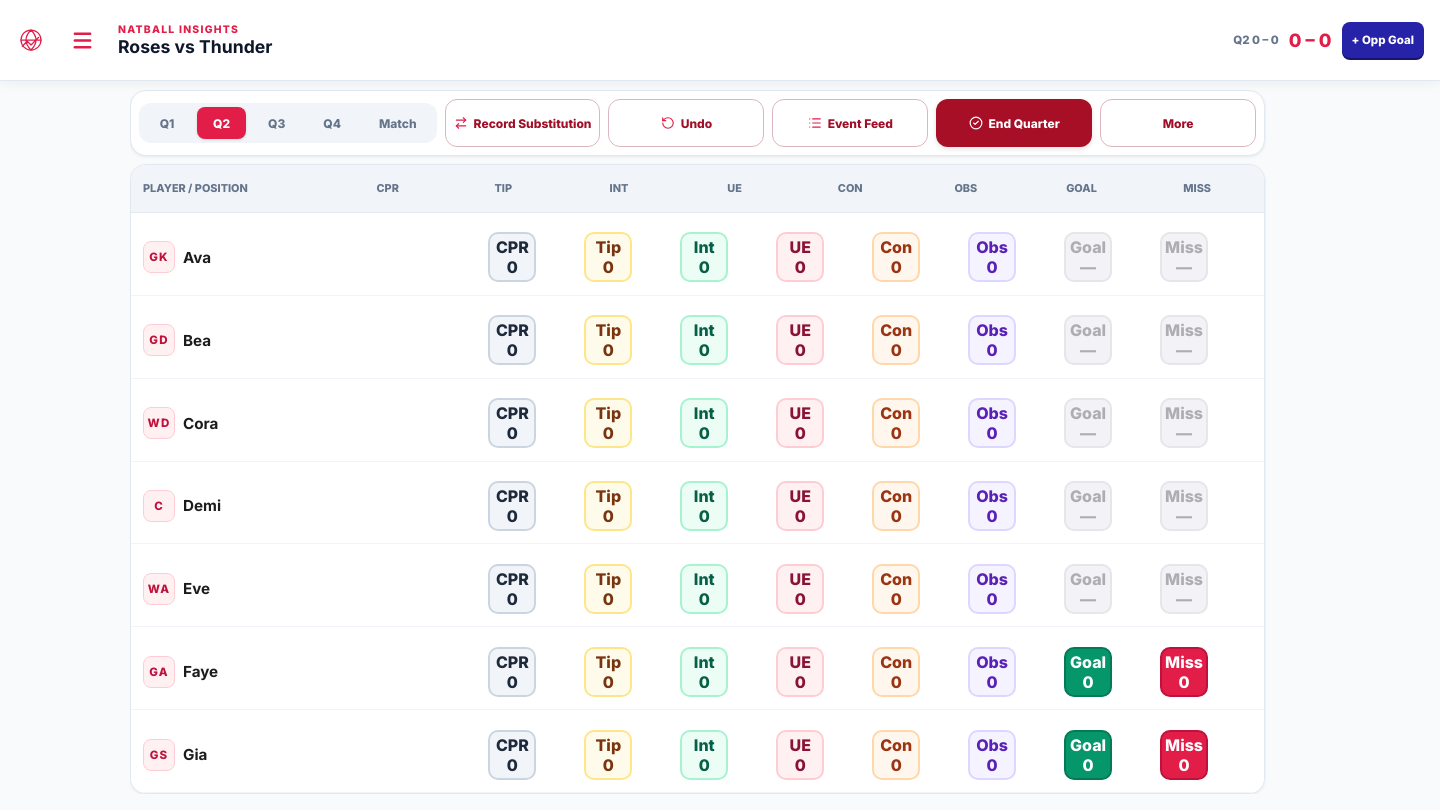
Scenario: Natball Insights setup › opens ended Quarter history away from the live Match Centre
Click the button named "Open coach navigation" at (82, 40), box [58, 16, 106, 64]
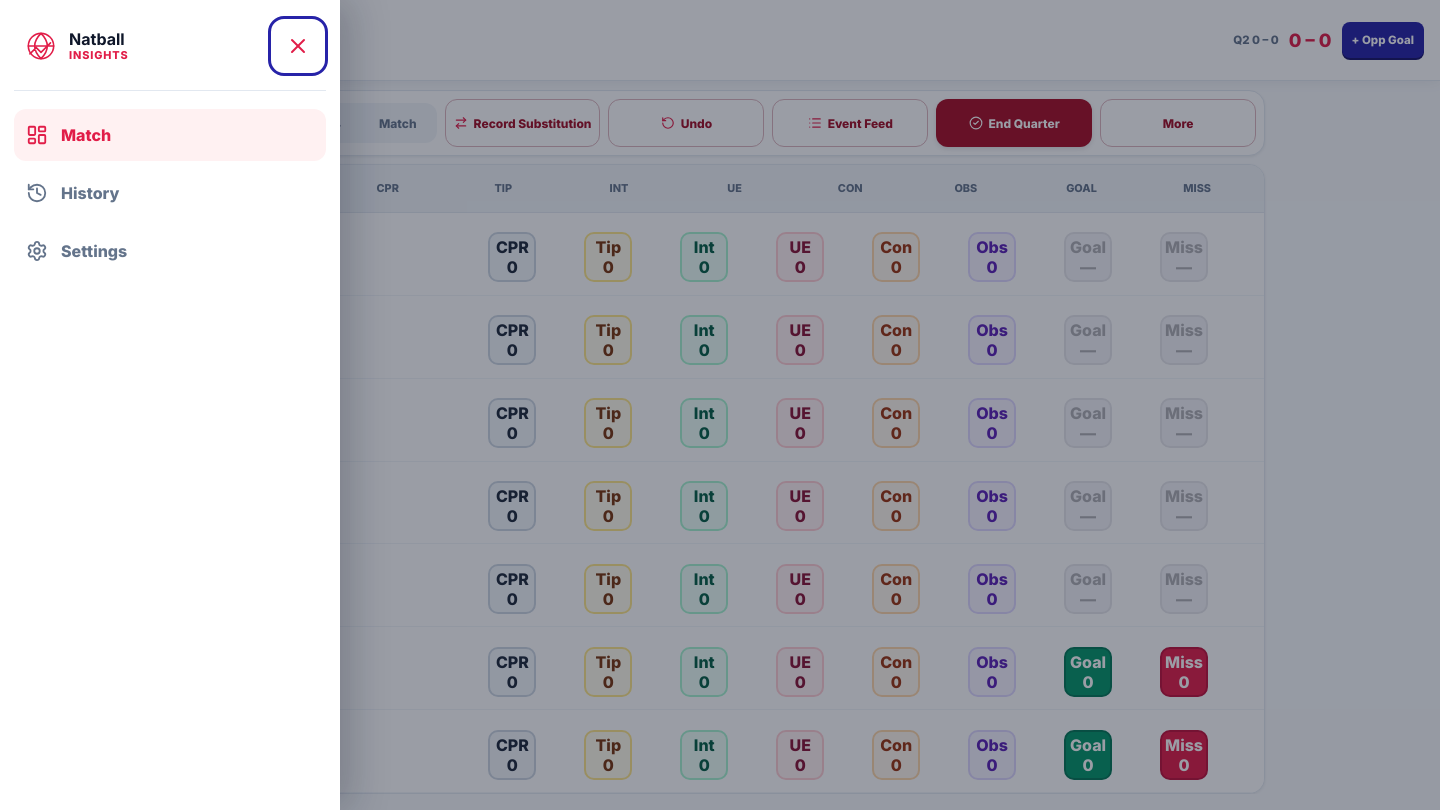
Click the button "History" at (90, 193), box [14, 167, 326, 219]
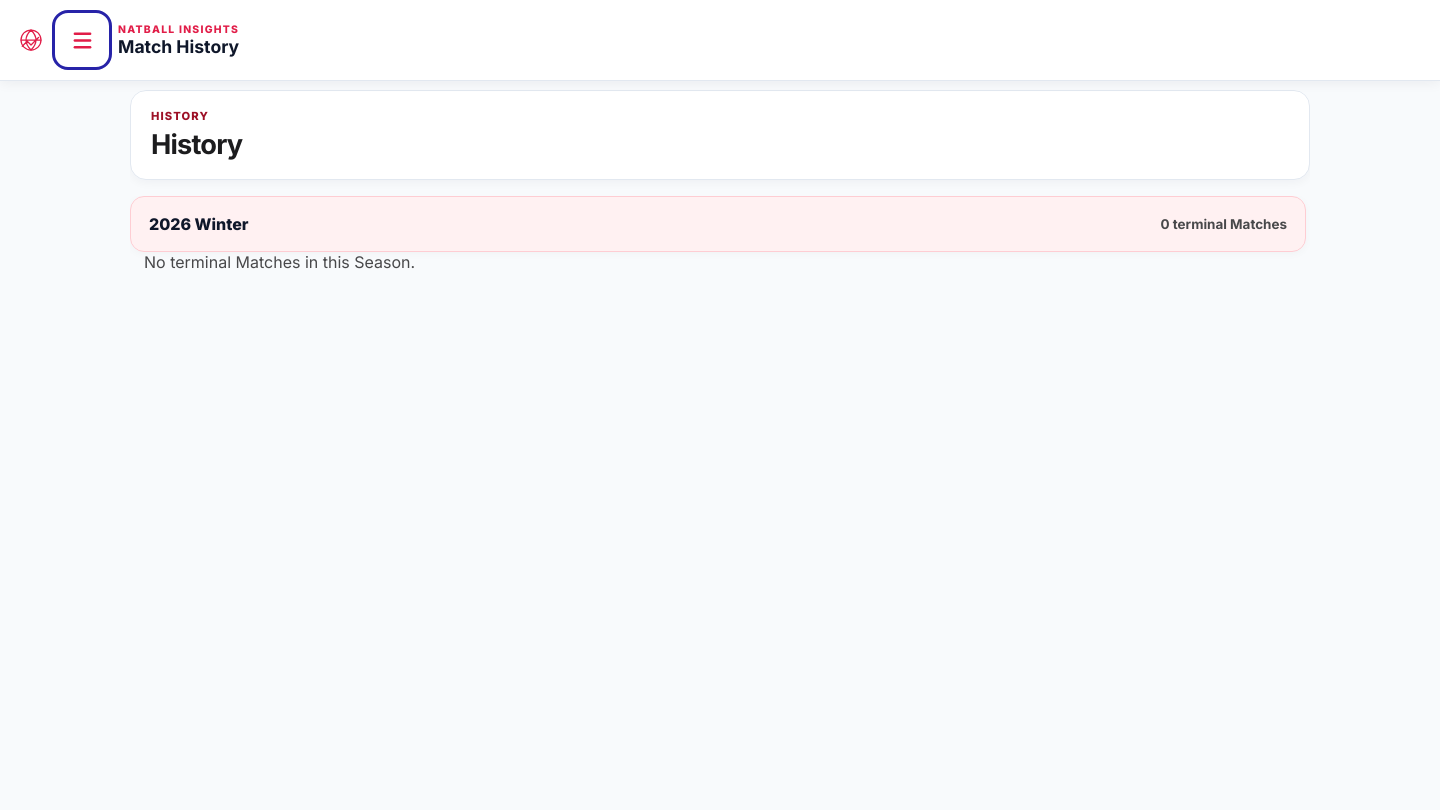
Result: the heading "History" is shown at [151, 128, 242, 161]
Result: the button "End Quarter" is gone
